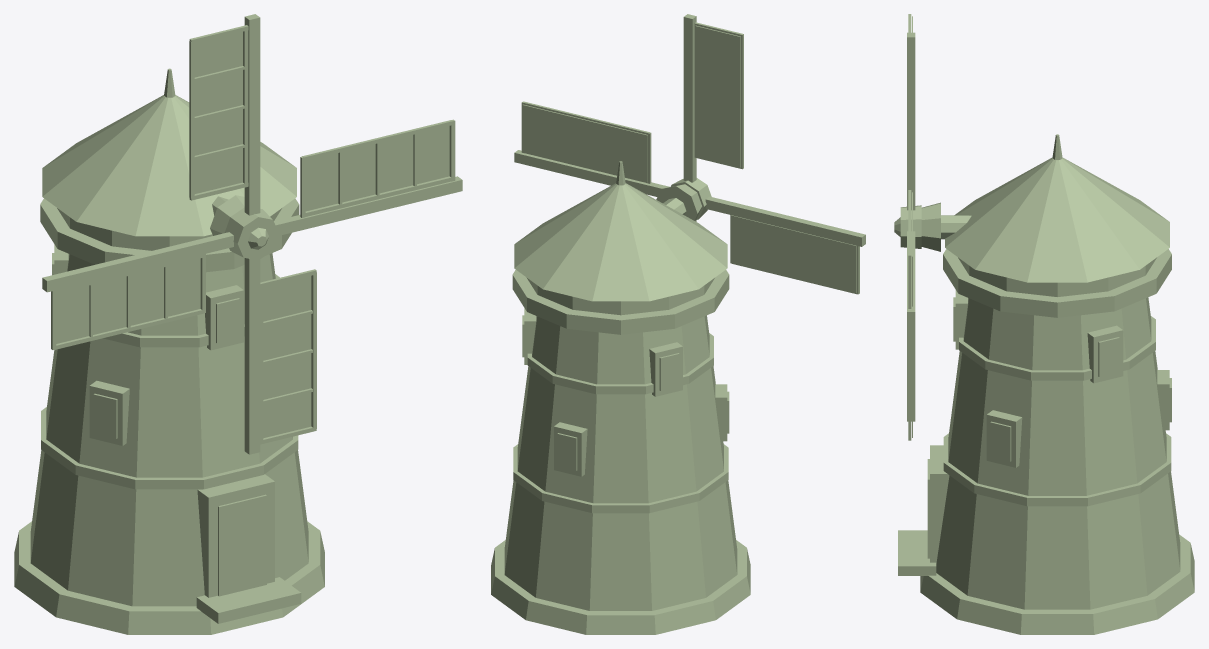
Rendered from windmill.fbx.
The picture shows the model from 3 angles, left to right: view 1: azimuth 30°, elevation 25°; view 2: azimuth 150°, elevation 25°; view 3: azimuth 270°, elevation 25°; orthographic projection. The views are drawn at different scales.
Parts seen in each view (by area): view 1: windmill, Blades; view 2: windmill, Blades; view 3: windmill, Blades.
Part boxes in pixels (left/top/right/bottom): windmill: left=14, top=68, right=324, bottom=634; Blades: left=42, top=14, right=462, bottom=454; windmill: left=491, top=161, right=750, bottom=634; Blades: left=514, top=14, right=865, bottom=294; windmill: left=898, top=134, right=1194, bottom=634; Blades: left=894, top=14, right=921, bottom=440.
Size of the model in its own units: 10 by 14.1 by 7.09.
